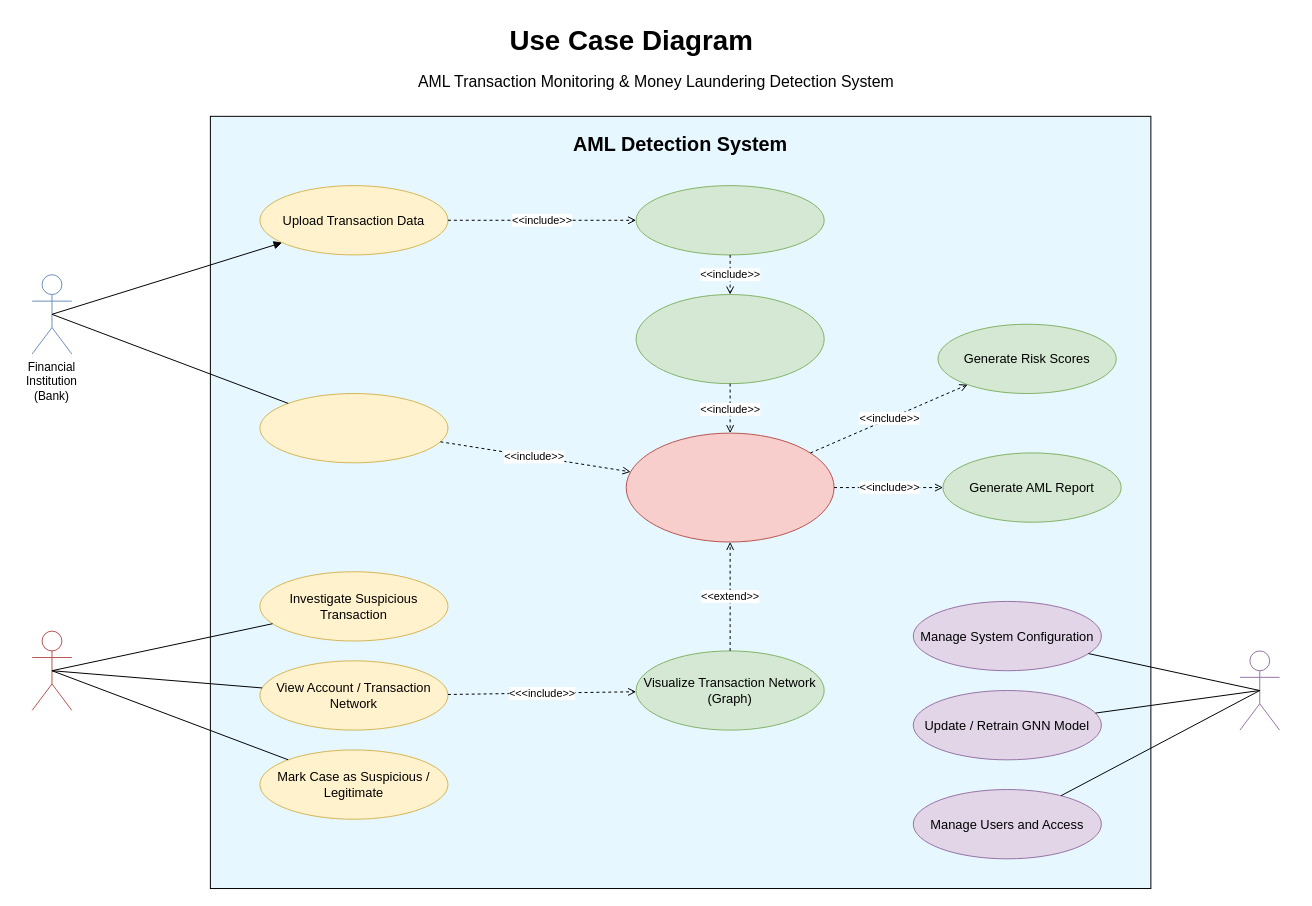
Some shapes in this 1312 by 906 pixel diagram are drawn without their labels. The shapes that lost their labels are listed below. From the top down, each one's centre as x and y in pixels, then its label:
point 729,220: Preprocess Transaction Data
point 729,339: Construct Transaction Graph (Account Network)
point 353,428: View Detection Results
point 729,487: Detect Suspicious Transactions (using GNN)
point 51,670: AML Analyst (Investigator)
point 1259,690: System Administrator
